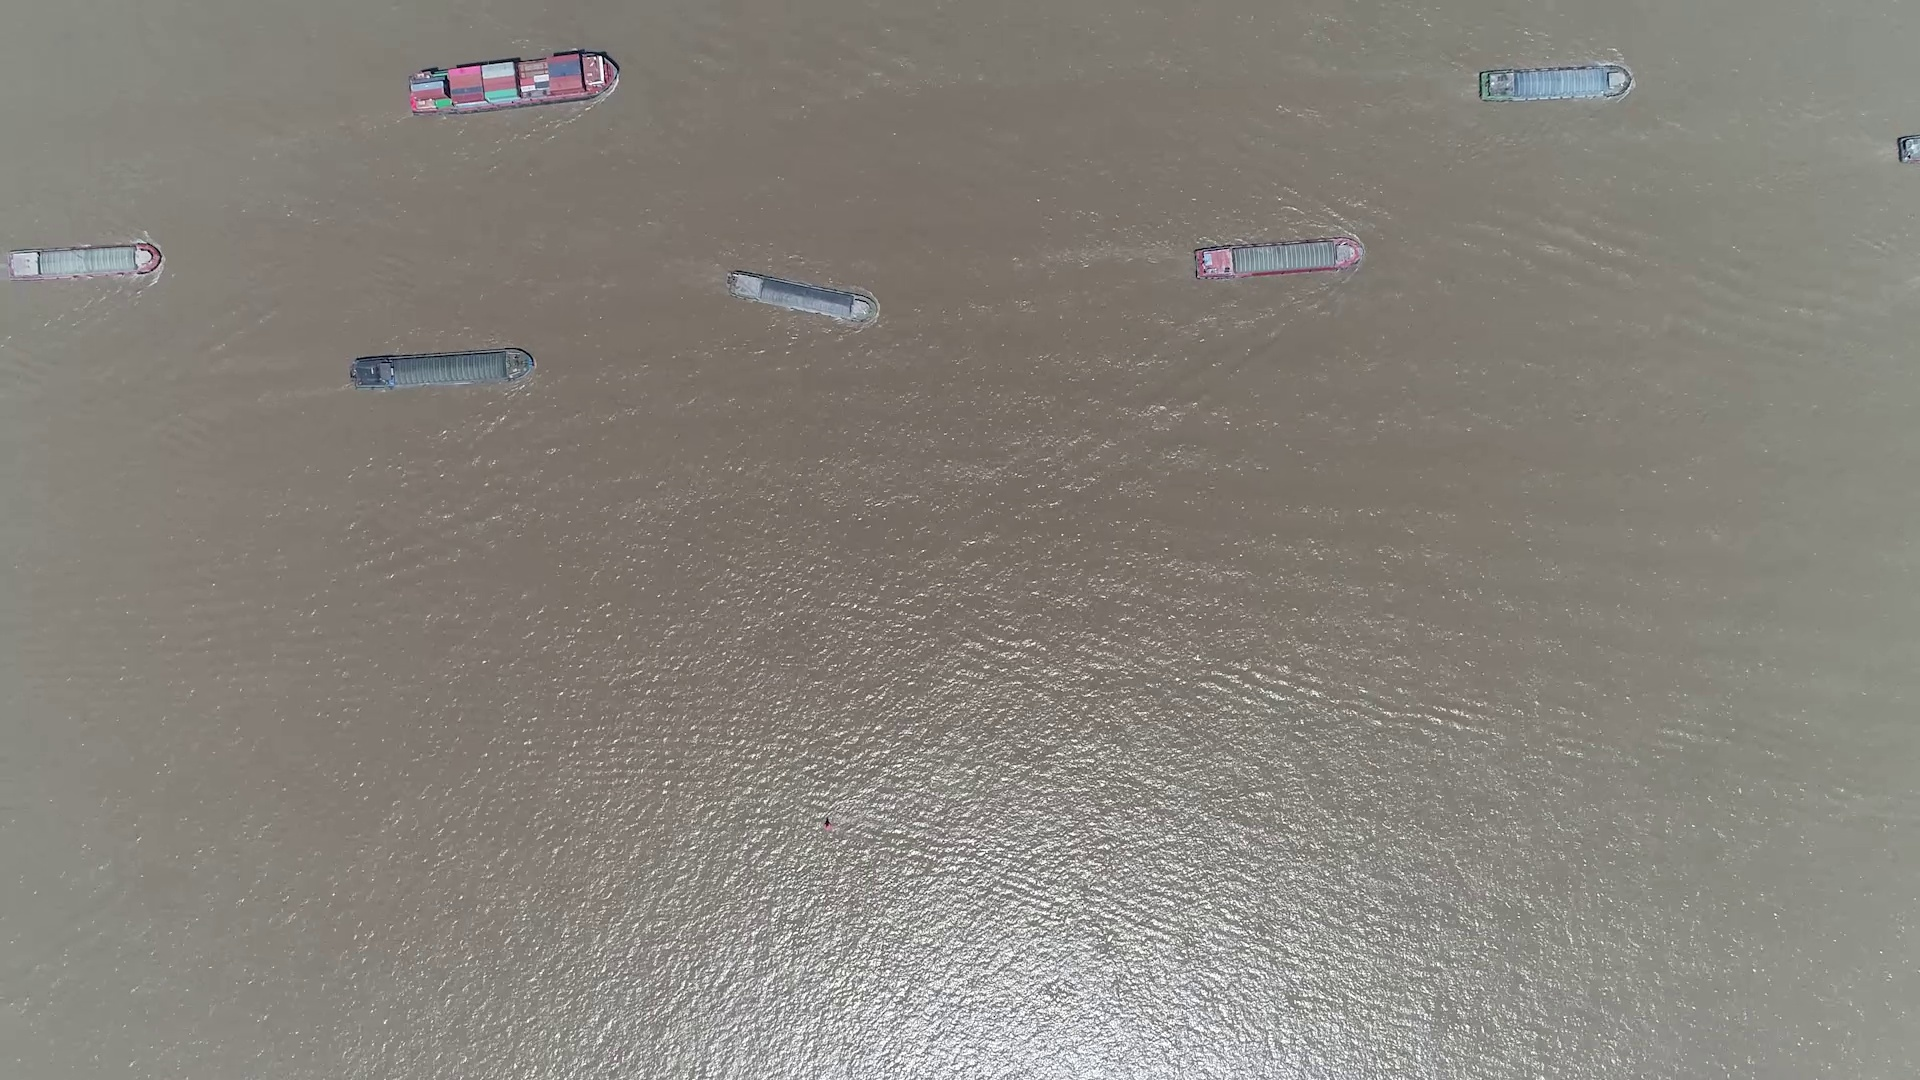ship: (407, 51, 618, 115), (727, 266, 876, 322), (349, 349, 533, 392), (1195, 237, 1364, 280), (4, 245, 161, 280), (1480, 65, 1625, 102)
